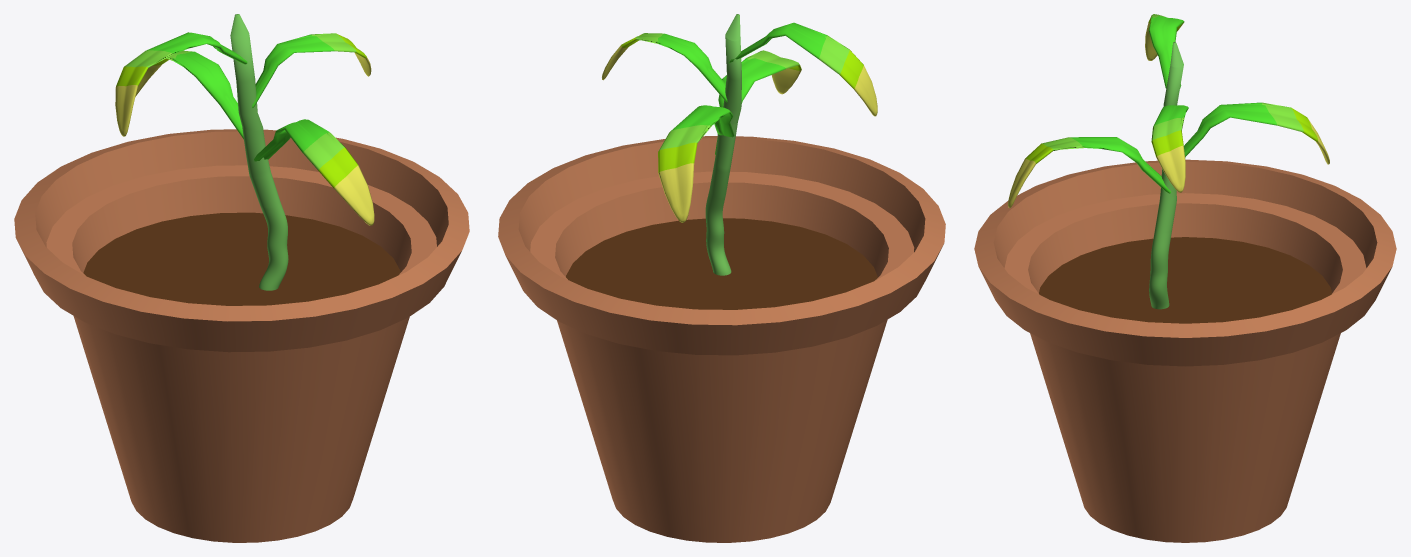
The model's file is dyingNotSoYoungPlant.fbx.
3 renders of one model, left to right at view 1: azimuth 30°, elevation 25°; view 2: azimuth 150°, elevation 25°; view 3: azimuth 270°, elevation 25°, orthographic. The views are drawn at different scales.
Parts seen in each view (by area): view 1: Plant Pot, Cylinder.001, Plane.001, Plane.002, Plane.003, Plane.004; view 2: Plant Pot, Cylinder.001, Plane.003, Plane.002, Plane.001, Plane.004; view 3: Plant Pot, Cylinder.001, Plane.003, Plane.001, Plane.004, Plane.002.
Part boxes in pixels (box(x1,y1,x2,y2)): Plant Pot: box(14, 129, 469, 542); Cylinder.001: box(230, 14, 288, 290); Plane.001: box(254, 119, 374, 225); Plane.002: box(115, 32, 247, 136); Plane.003: box(135, 50, 243, 139); Plane.004: box(252, 33, 371, 107); Plant Pot: box(498, 136, 945, 542); Cylinder.001: box(705, 14, 741, 275); Plane.003: box(658, 105, 734, 222); Plane.002: box(728, 22, 877, 116); Plane.001: box(715, 50, 801, 154); Plane.004: box(602, 33, 727, 102); Plant Pot: box(974, 159, 1396, 542); Cylinder.001: box(1149, 42, 1183, 309); Plane.003: box(1184, 102, 1329, 164); Plane.001: box(1008, 137, 1170, 207); Plane.004: box(1151, 105, 1188, 192); Plane.002: box(1145, 14, 1184, 91).
Size of the model in its own units: 535 by 637 by 535.
